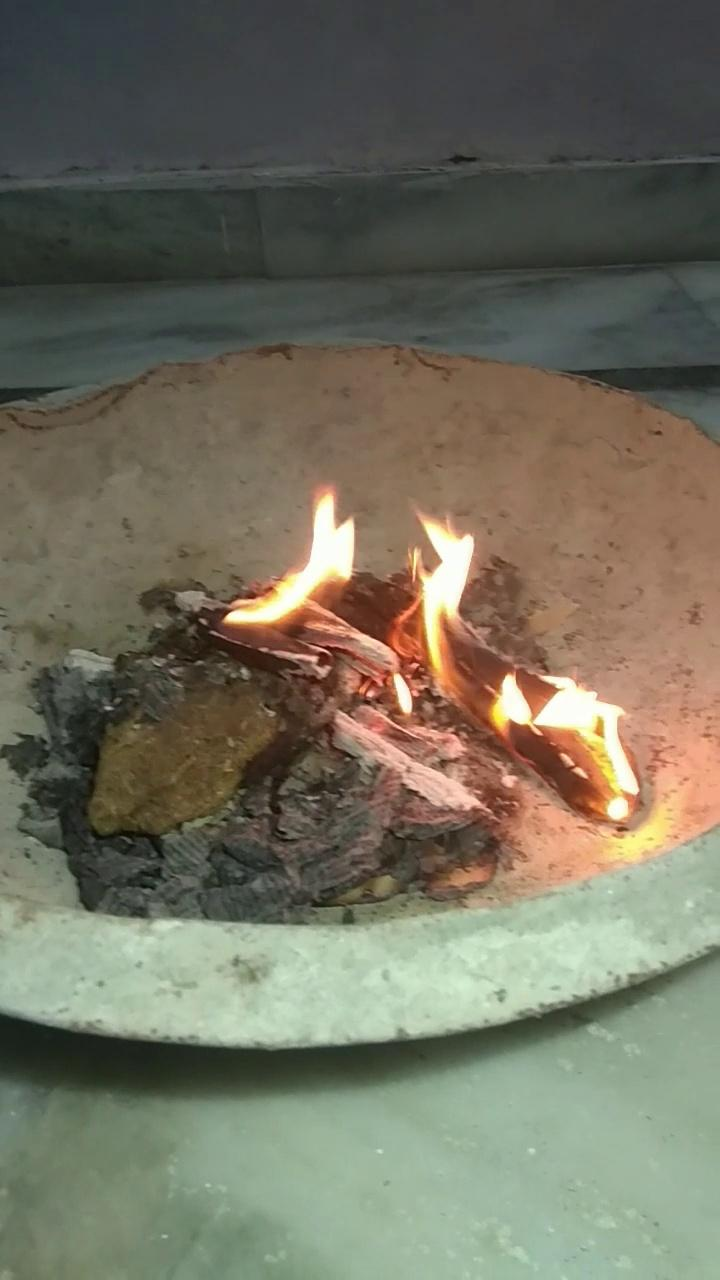fire: (207, 494, 632, 835)
